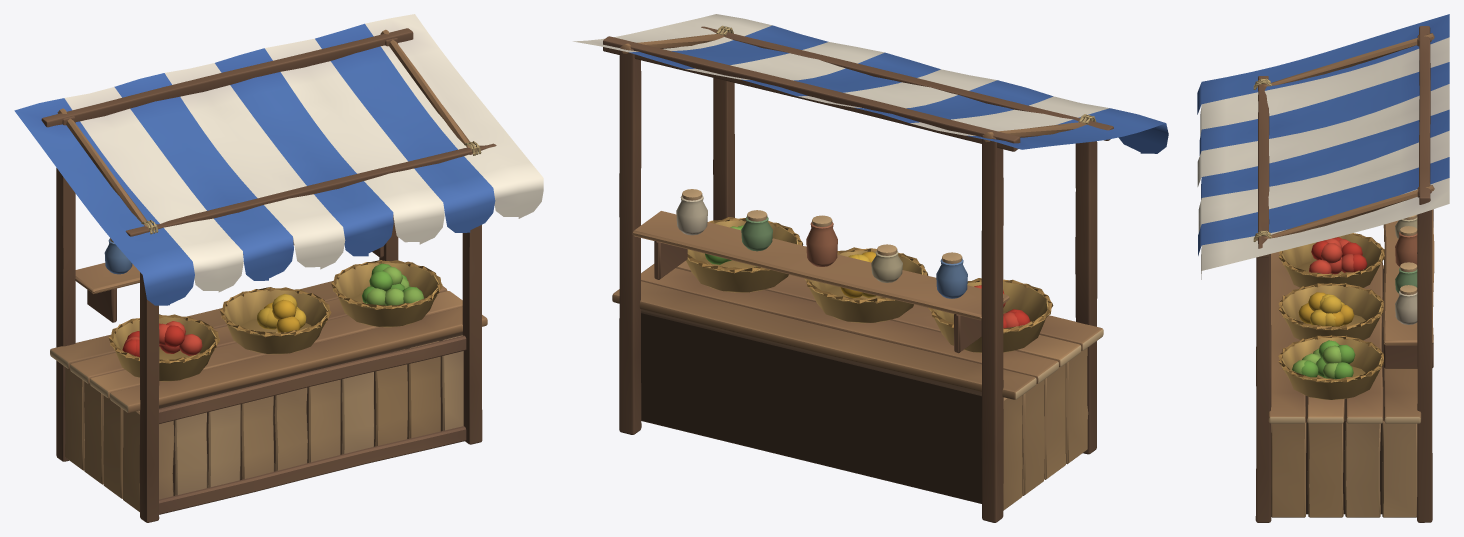
The model's file is pr_stall.glb.
3 views of the same model, side by side, from view 1: azimuth 30°, elevation 25°; view 2: azimuth 150°, elevation 25°; view 3: azimuth 270°, elevation 25° (orthographic). The views are drawn at different scales.
Visible parts, largest first — view 1: PR_stall__body, PR_stall__awningBlue; view 2: PR_stall__body, PR_stall__awningBlue; view 3: PR_stall__body, PR_stall__awningBlue.
Part boxes in pixels (box(x1,y1,x2,y2)): PR_stall__body: box(41, 28, 496, 522); PR_stall__awningBlue: box(14, 14, 543, 305); PR_stall__body: box(603, 25, 1113, 522); PR_stall__awningBlue: box(573, 14, 1168, 153); PR_stall__body: box(1253, 26, 1434, 522); PR_stall__awningBlue: box(1197, 14, 1449, 279).
Bounding box in the file's own units: 3.6 × 3 × 2.03.
